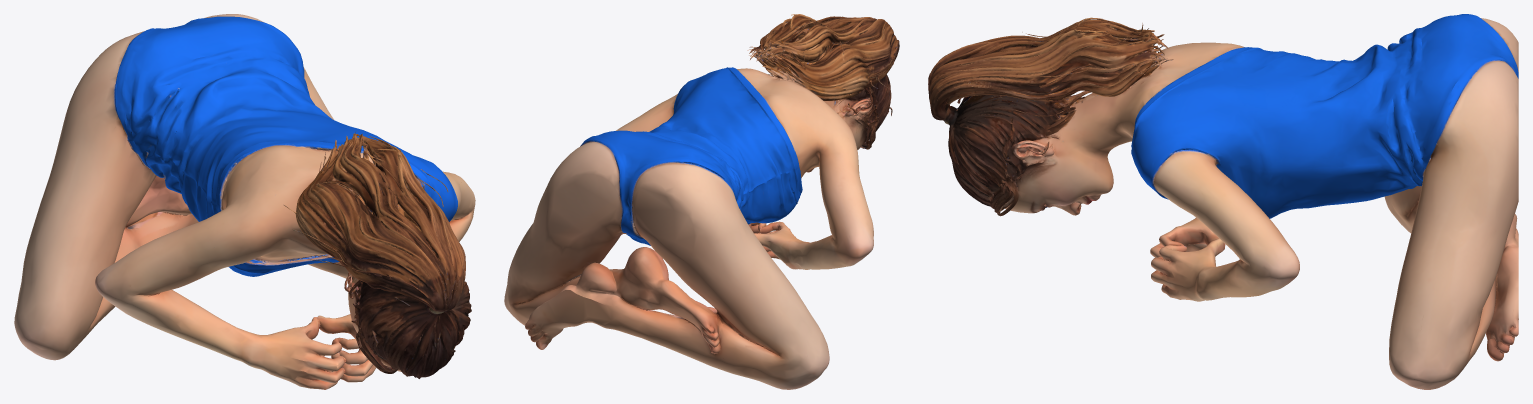
File: woman_head_split.glb
3 renders of one model, left to right at view 1: azimuth 30°, elevation 25°; view 2: azimuth 150°, elevation 25°; view 3: azimuth 270°, elevation 25°, orthographic. The views are drawn at different scales.
Visible parts, largest first — view 1: Body_Node, Head_Node; view 2: Body_Node, Head_Node; view 3: Body_Node, Head_Node.
Boxes of the visible parts, x1,y1,x2,y2 form: Body_Node: (14, 43, 475, 389); Head_Node: (87, 14, 454, 257); Body_Node: (504, 17, 899, 389); Head_Node: (563, 14, 887, 201); Body_Node: (928, 40, 1518, 389); Head_Node: (945, 14, 1518, 117).
Size of the model in its own units: 0.7528 by 0.5422 by 1.
1 material, 1 textured.
